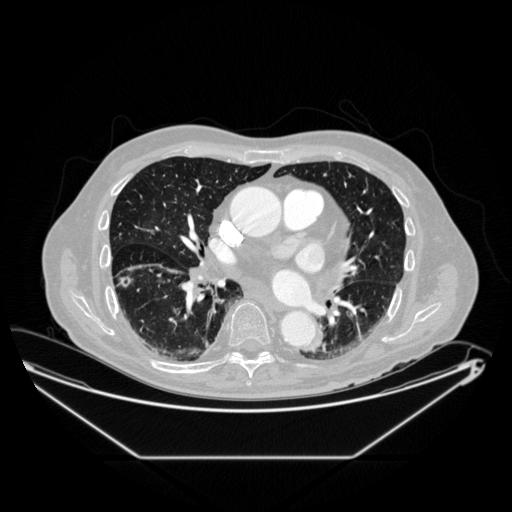nodule: (117, 273, 133, 289)
